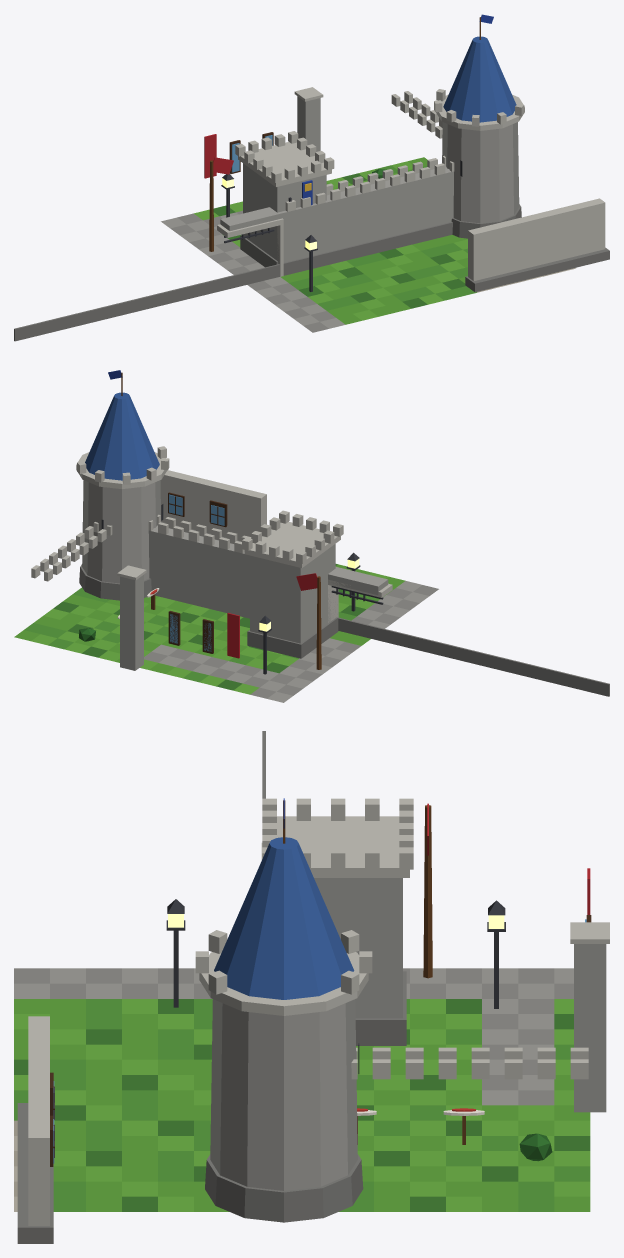
File: chunk_6_4.glb
3 renders of one model, top to bottom at view 1: azimuth 30°, elevation 25°; view 2: azimuth 150°, elevation 25°; view 3: azimuth 270°, elevation 25°, orthographic. The views are drawn at different scales.
Parts seen in each view (by area): view 1: chunk_6_4; view 2: chunk_6_4; view 3: chunk_6_4.
Boxes of the visible parts, bbox=[...] form: chunk_6_4: bbox=[14, 14, 609, 341]; chunk_6_4: bbox=[14, 370, 609, 702]; chunk_6_4: bbox=[14, 731, 609, 1243].
Bounding box in the file's own units: 32.2 × 12.1 × 16.55.
